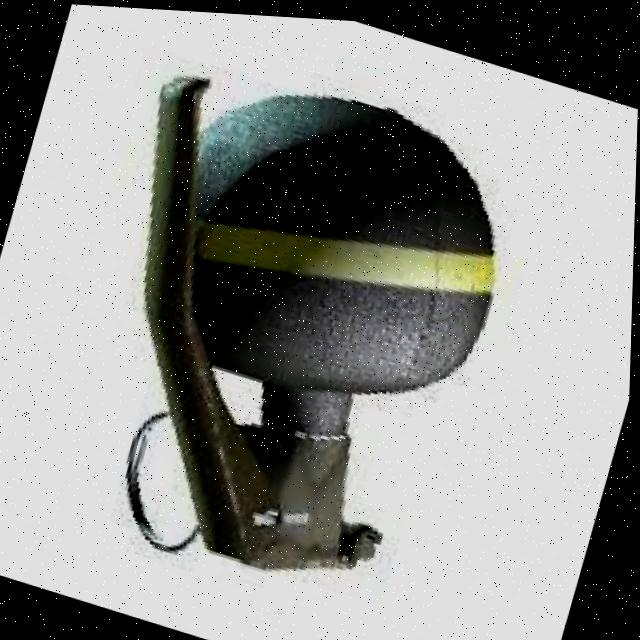grenade: (34, 30, 539, 627)
